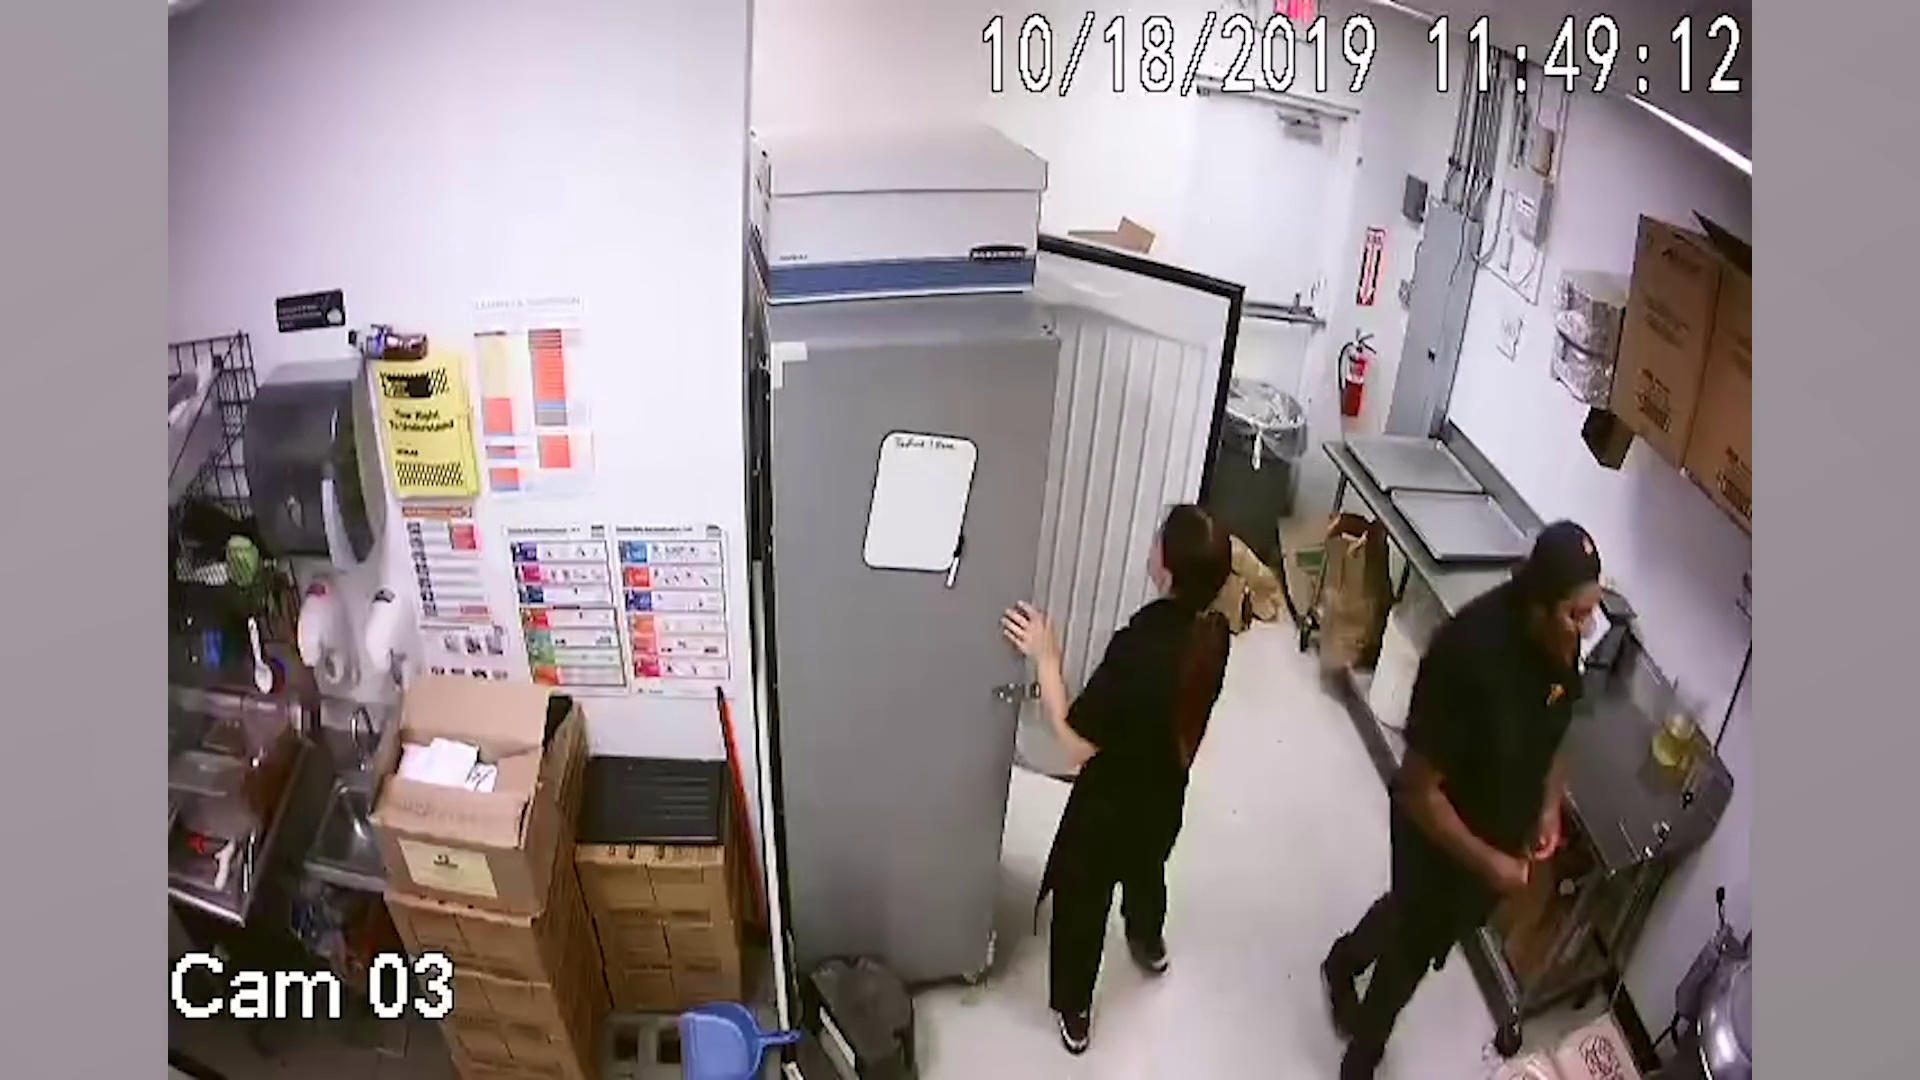face: (1532, 585, 1592, 656)
